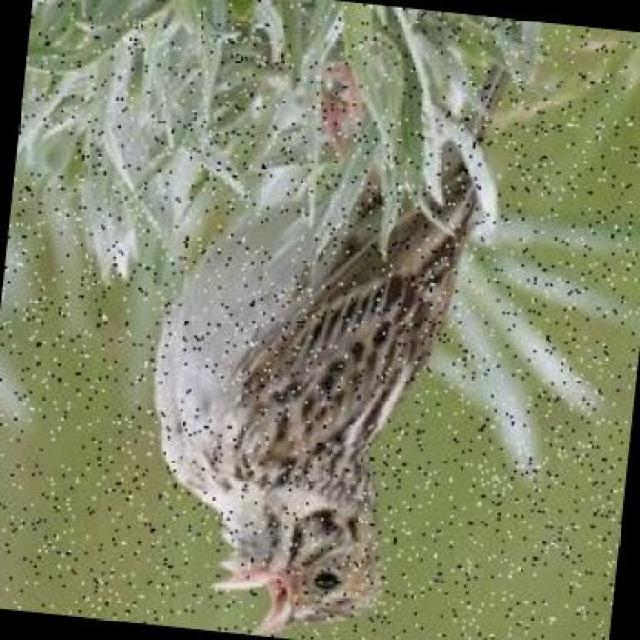Bird: (166, 67, 473, 632)
